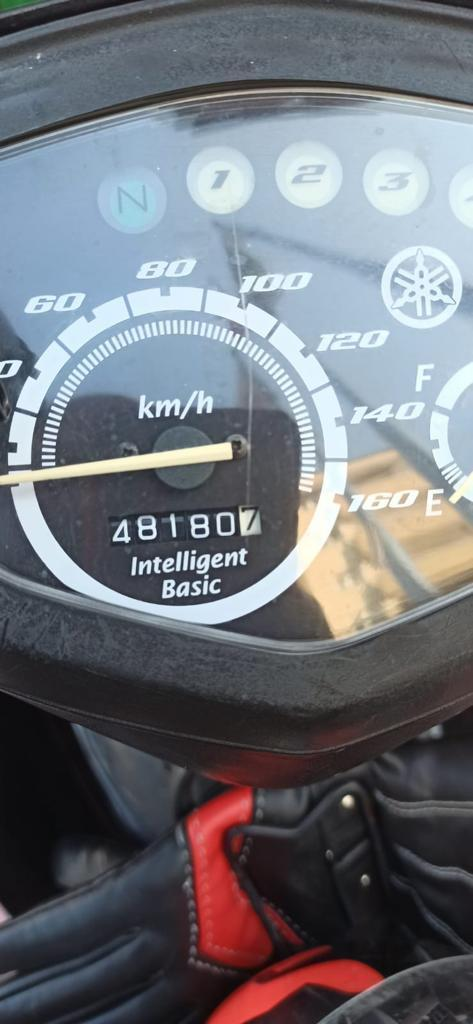0: (215, 511, 235, 536)
1: (169, 512, 177, 537)
4: (111, 518, 131, 544)
7: (241, 506, 259, 530)
8: (136, 514, 157, 540), (189, 513, 210, 538)
odometer: (104, 503, 265, 549)
